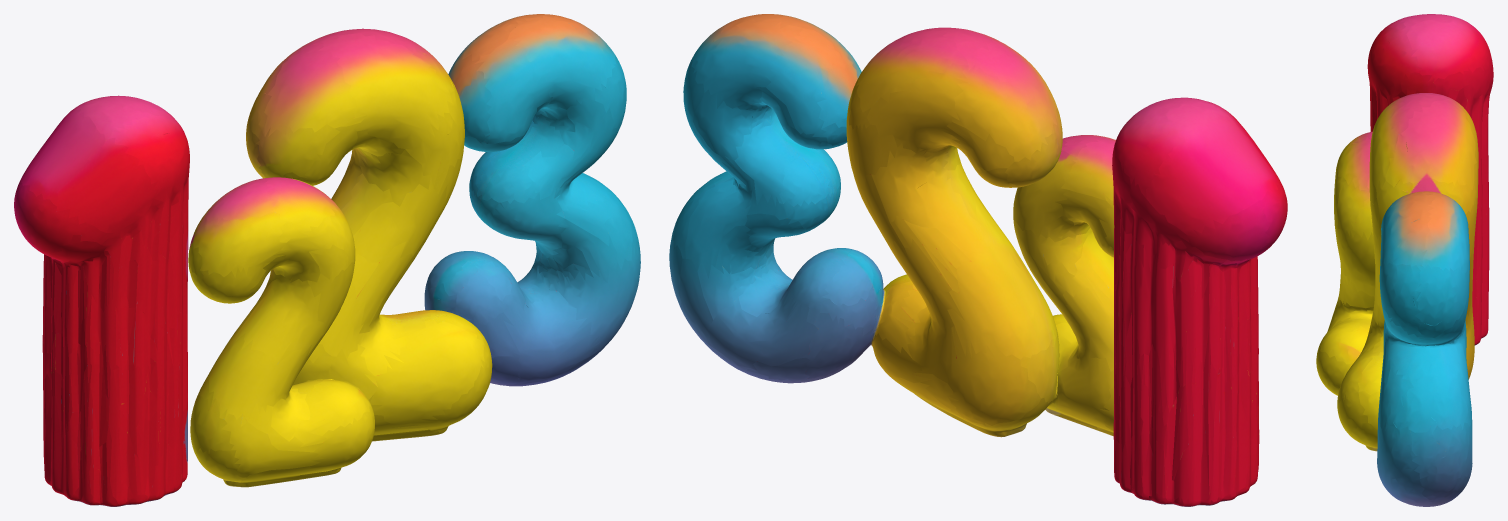
Rendered from bouncy-counting-numbers-1-2-3-v1.glb.
3 renders of one model, left to right at view 1: azimuth 30°, elevation 25°; view 2: azimuth 150°, elevation 25°; view 3: azimuth 270°, elevation 25°, orthographic. The views are drawn at different scales.
Size of the model in its own units: 1.9 by 1.16 by 0.5724.
Materials: 1 (1 with a texture image).
